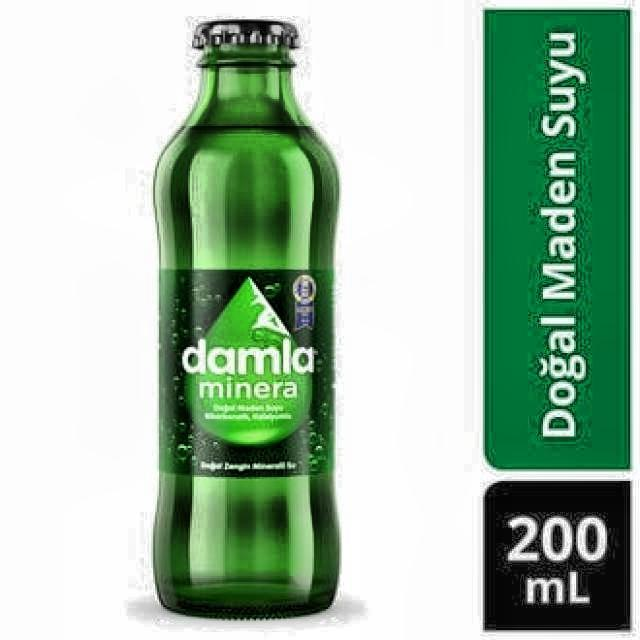glass: (150, 18, 344, 623)
